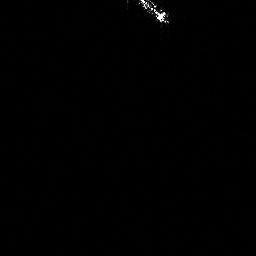ship: (136, 1, 174, 27)
